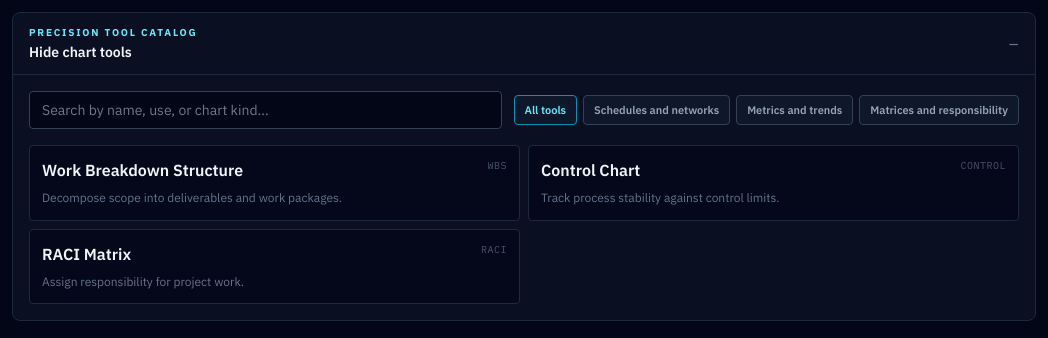
Test: chart catalog › reports an empty search without hiding the active filters
Type "earned value" into the search field named "search chart tools".
click(265, 110); type("earned value")  # box [29,91,502,129]
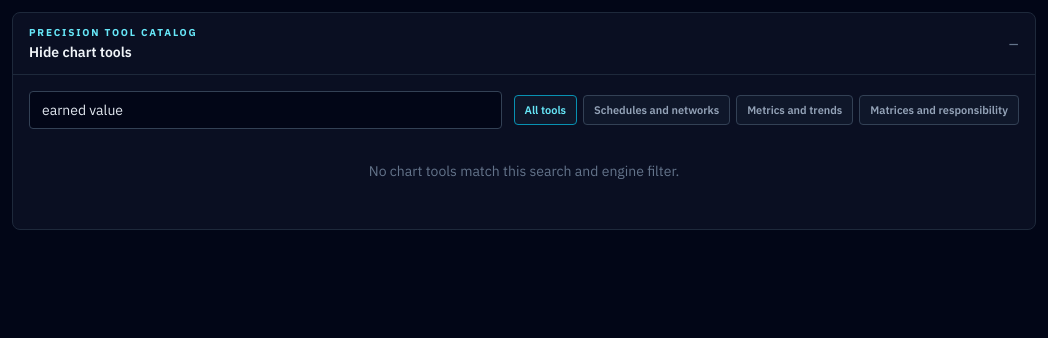
Expected: the message shows "No chart tools match", [369,162,679,180]
